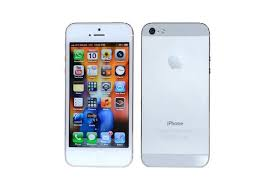iphone: (61, 19, 135, 167), (138, 20, 212, 168)
iphone5: (138, 21, 212, 169), (61, 19, 135, 167)
